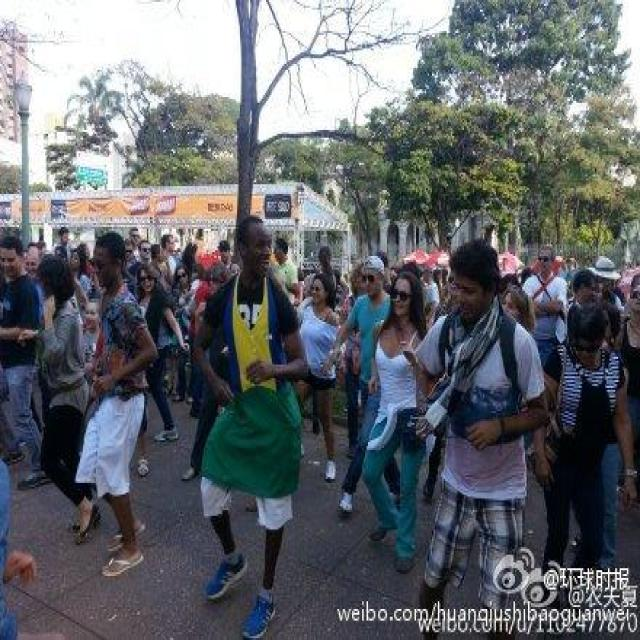non-fight: (407, 233, 556, 638), (182, 215, 311, 638), (66, 229, 162, 578)
